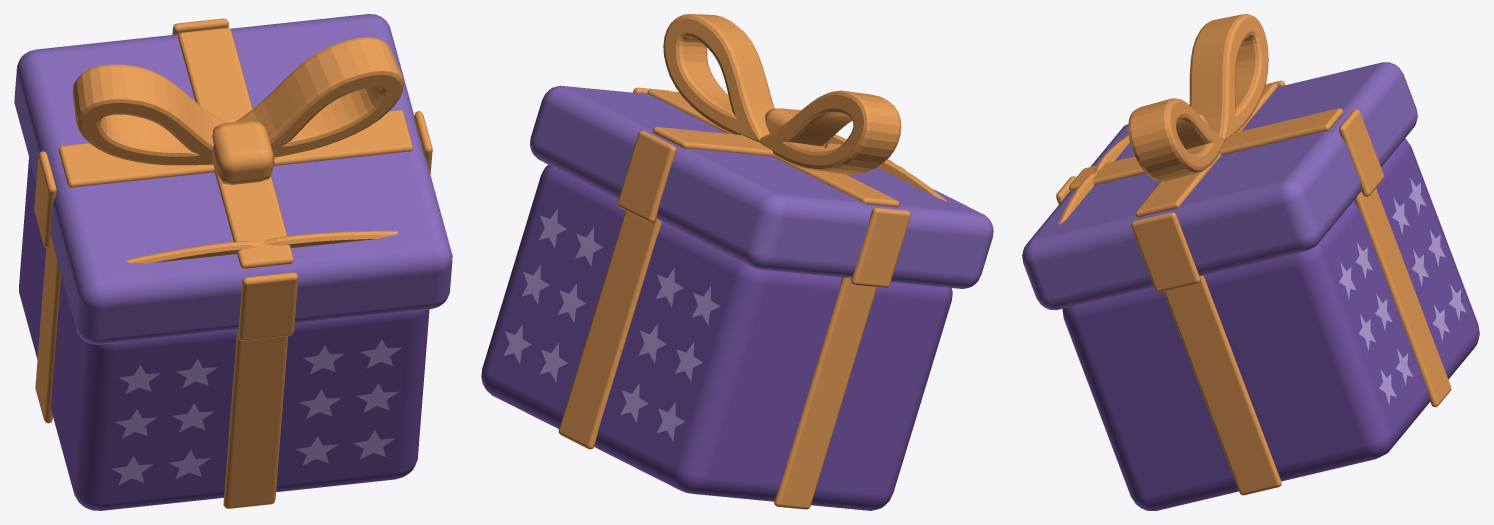
The model's file is giftpurple.glb.
The picture shows the model from 3 angles, left to right: view 1: azimuth 30°, elevation 25°; view 2: azimuth 150°, elevation 25°; view 3: azimuth 270°, elevation 25°; orthographic projection. The views are drawn at different scales.
Parts seen in each view (by area): view 1: giftpurple; view 2: giftpurple; view 3: giftpurple.
Part boxes in pixels (box(x1,y1,x2,y2)): giftpurple: box(14, 14, 452, 510); giftpurple: box(481, 14, 993, 510); giftpurple: box(1022, 14, 1479, 510).
Bounding box in the file's own units: 1.02 × 1.06 × 1.09.
